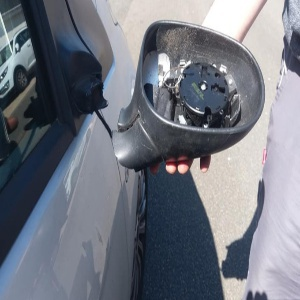side_mirror: (68, 22, 260, 158)
